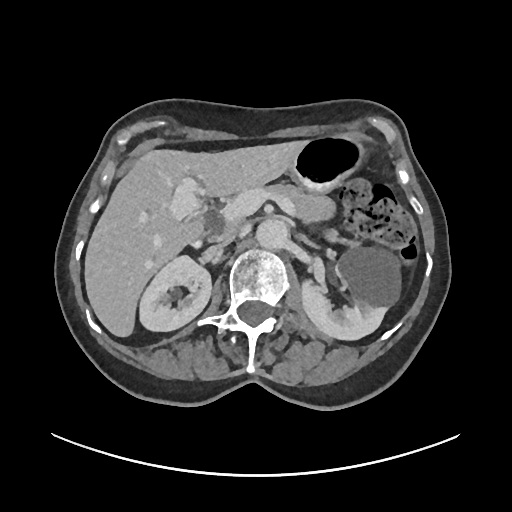Lesion: (332, 243, 405, 312)
